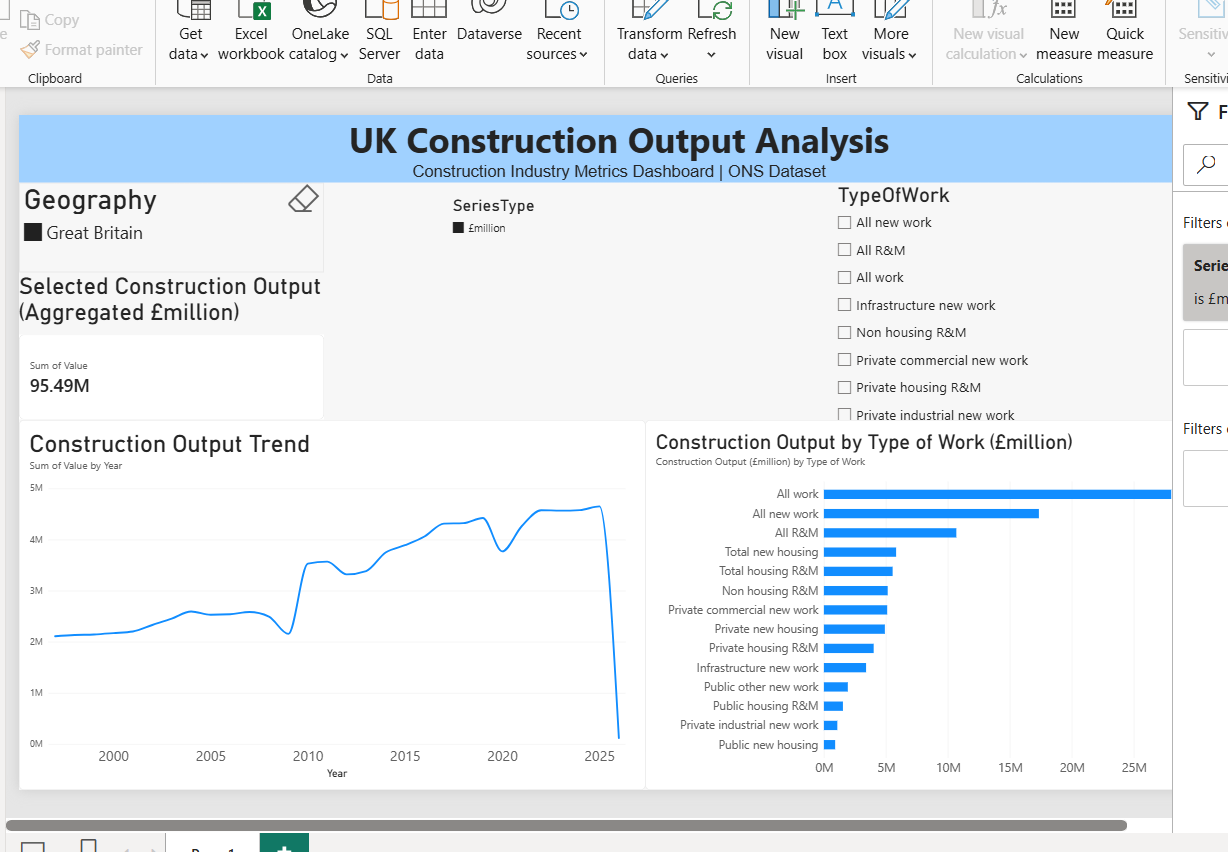

What the dashboard file says about the page in this screenshot:
{"tool":"powerbi","page":{"name":"Page 1","canvas":[1920,1080],"ordinal":0},"visuals":[{"type":"lineChart","title":"Construction Output Trend","fields":{"Category":["ONS_Construction_Output.MonthDate.Variation.Date Hierarchy.Year","ONS_Construction_Output.MonthDate.Variation.Date Hierarchy.Quarter","ONS_Construction_Output.MonthDate.Variation.Date Hierarchy.Month","ONS_Construction_Output.MonthDate.Variation.Date Hierarchy.Day"],"Y":["Sum(ONS_Construction_Output.Value)"]},"box":[0,488,1002,592],"z":0},{"type":"clusteredBarChart","title":"Construction Output by Type of Work (£million)","fields":{"Category":["ONS_Construction_Output.TypeOfWork"],"Y":["Sum(ONS_Construction_Output.Value)"]},"box":[1002,488,918,592],"z":1000},{"type":"slicer","title":"Geography slicer","fields":{"Values":["ONS_Construction_Output.Geography"]},"box":[0,108,488,144],"z":2000},{"type":"slicer","fields":{"Values":["ONS_Construction_Output.TypeOfWork"]},"box":[1302,108,618,380],"z":3000},{"type":"slicer","fields":{"Values":["ONS_Construction_Output.SeriesType"]},"box":[686,128,234,102],"z":4000},{"type":"textbox","box":[0,0,1920,108],"z":5000},{"type":"cardVisual","title":"Selected Construction Output (Aggregated £million)","fields":{"Data":["Sum(ONS_Construction_Output.Value)"]},"box":[0,252,488,236],"z":6000}]}

Visuals, with their boxes on the page's 1920x1080 design canvas (x1, y1, x2, y2). These are canvas units, not pixel positions in the 1228x852 screenshot, which may show the page scaled, cropped or inside an application window:
"Construction Output Trend" lineChart: detection(0, 488, 1002, 1080)
"Construction Output by Type of Work (£million)" clusteredBarChart: detection(1002, 488, 1920, 1080)
"Geography slicer" slicer: detection(0, 108, 488, 252)
slicer - ONS_Construction_Output.TypeOfWork: detection(1302, 108, 1920, 488)
slicer - ONS_Construction_Output.SeriesType: detection(686, 128, 920, 230)
textbox: detection(0, 0, 1920, 108)
"Selected Construction Output (Aggregated £million)" cardVisual: detection(0, 252, 488, 488)
